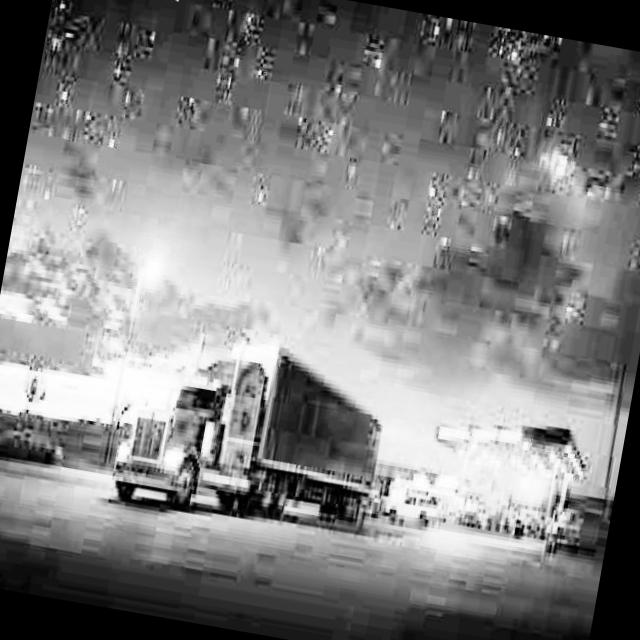Truck: (109, 310, 398, 540)
